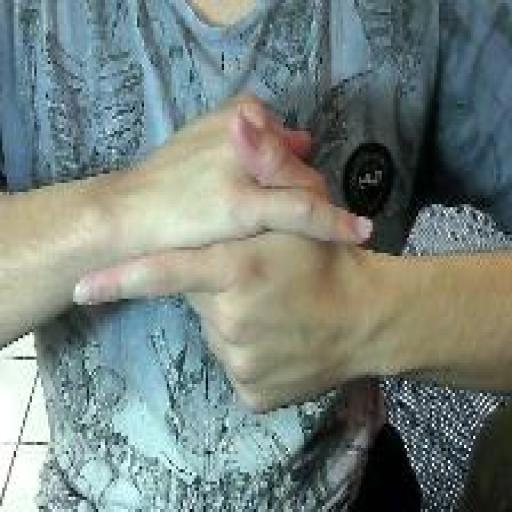U -hare-: (70, 87, 376, 422)
